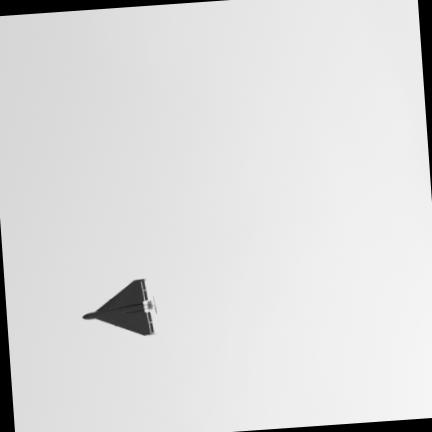Shahed: (83, 278, 156, 334)
